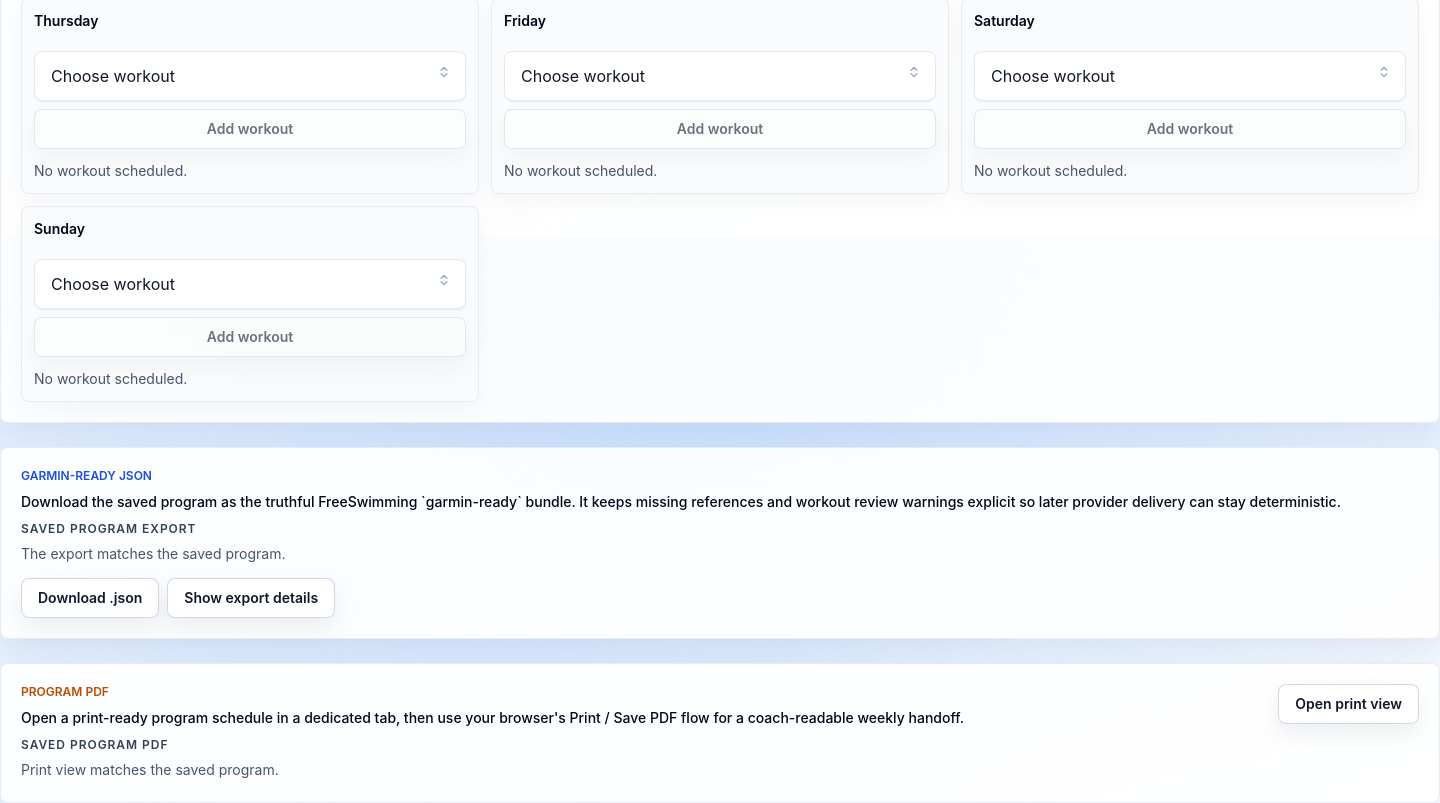
Scenario: ProgramBuilderHub › announces program export download and pdf popup failures accessibly
(page scrolled)
Click the button with test id "program-editor-garmin-export-download": (90, 598) [21,578,159,618]
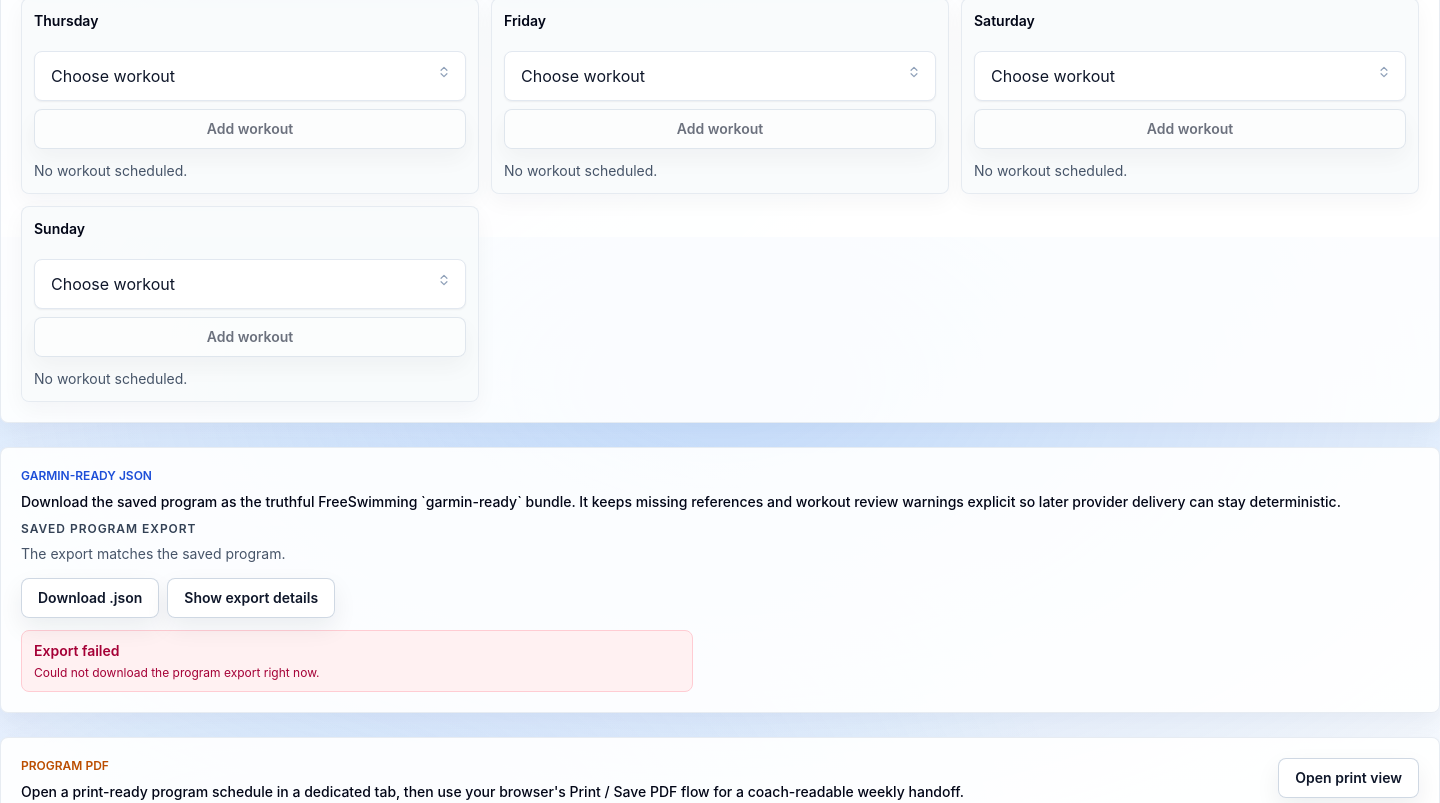
expect the message with test id "program-editor-garmin-export-error" shows "Export failed": met, box [34,642,120,659]
expect the message with test id "program-editor-garmin-export-error" shows "Could not download the program export right now.": met, box [34,665,320,680]
Click the button with test id "program-editor-pdf-open": (1349, 778) [1278,758,1419,798]
(page scrolled)
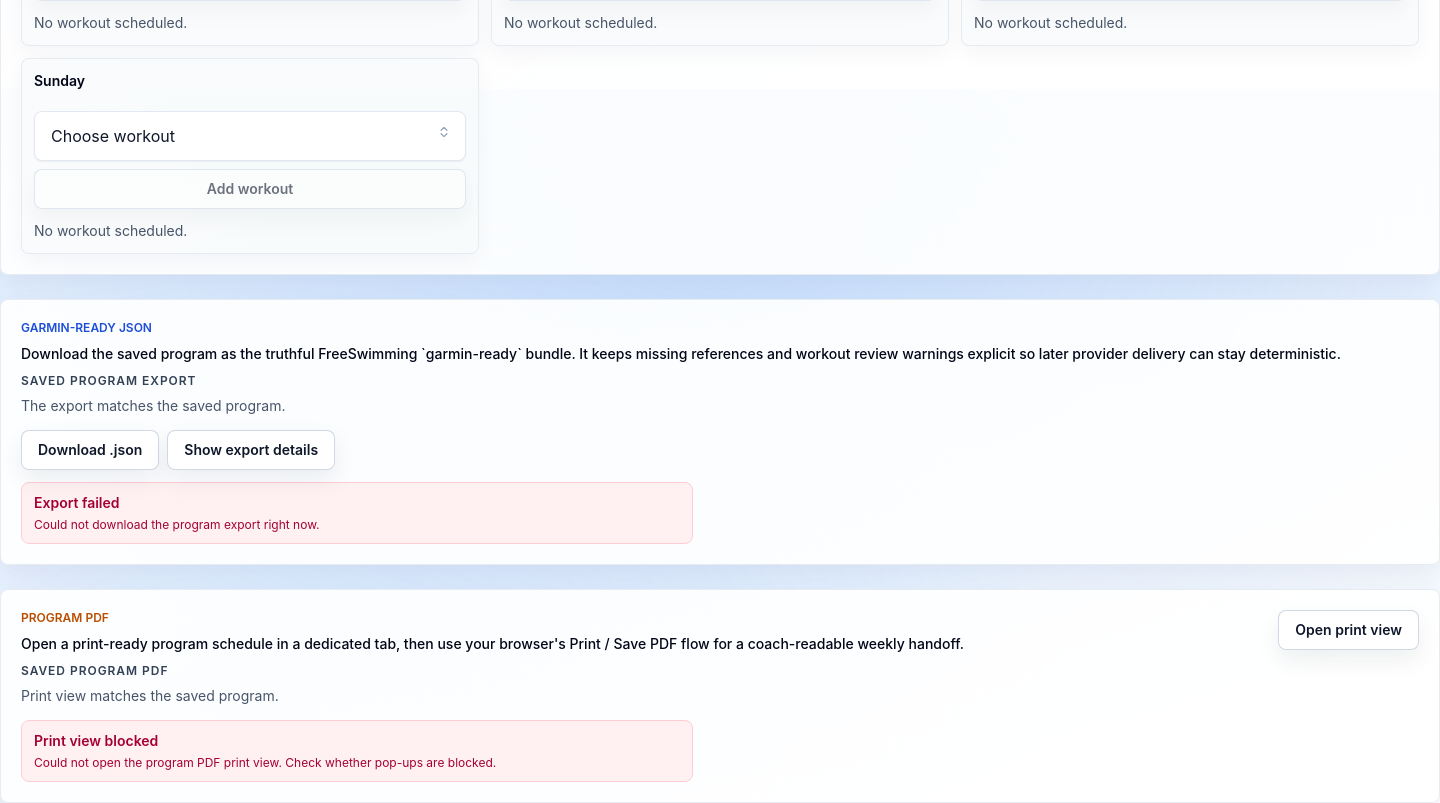
expect the message with test id "program-editor-pdf-error" shows "Print view blocked": met, box [34,732,158,749]
expect the message with test id "program-editor-pdf-error" shows "Could not open the program PDF print view. Check whether pop-ups are blocked.": met, box [34,755,496,770]
